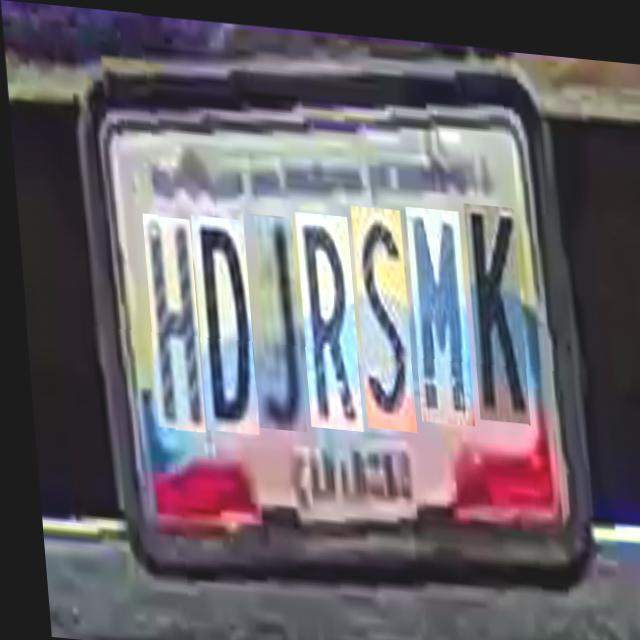D: (187, 212, 253, 430)
H: (139, 212, 200, 430)
J: (240, 210, 300, 427)
K: (460, 194, 524, 414)
M: (402, 198, 469, 418)
R: (292, 206, 358, 425)
S: (348, 199, 410, 425)
